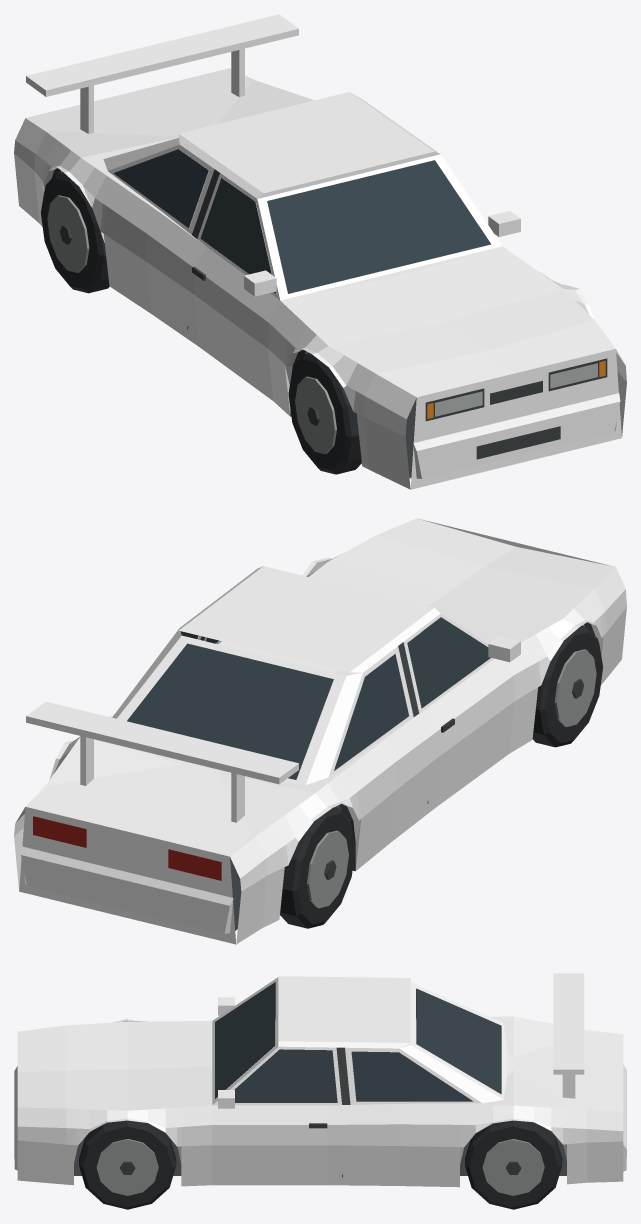
The model's file is lindauer_lerche_corrida.glb.
The picture shows the model from 3 angles, top to bottom: view 1: azimuth 30°, elevation 25°; view 2: azimuth 150°, elevation 25°; view 3: azimuth 270°, elevation 25°; orthographic projection. The views are drawn at different scales.
Visible parts, largest first — view 1: lindauer_lerche_corrida; view 2: lindauer_lerche_corrida; view 3: lindauer_lerche_corrida.
Part boxes in pixels (x1,y1,x2,y2): lindauer_lerche_corrida: [14, 14, 626, 489]; lindauer_lerche_corrida: [14, 518, 626, 944]; lindauer_lerche_corrida: [14, 973, 626, 1209].
Bounding box in the file's own units: 1.71 × 1.2 × 4.35.
8 materials, 1 textured.
